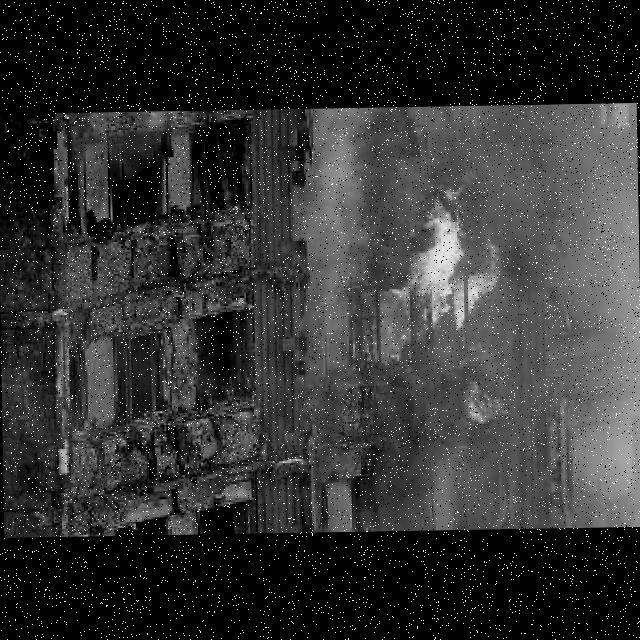Fire: (354, 169, 507, 366)
